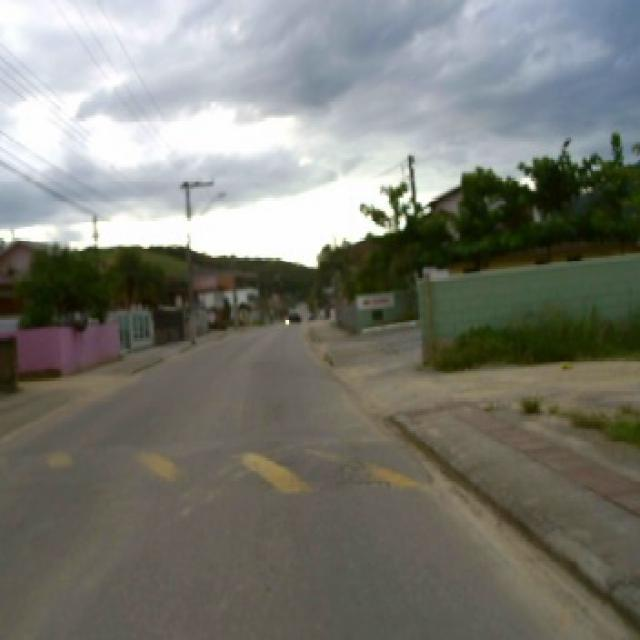Poth-hole: (0, 429, 435, 502)
